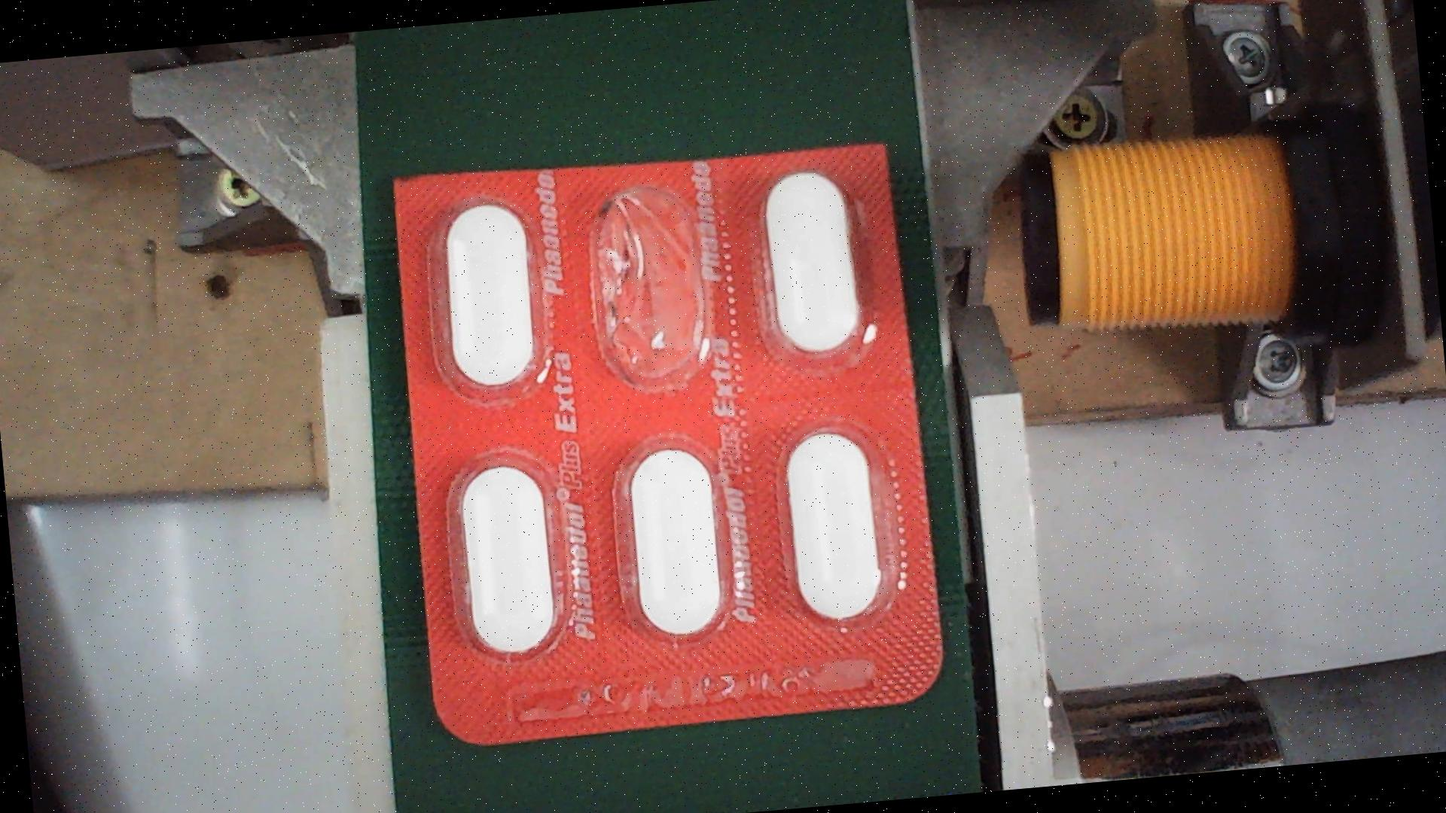Empty: (581, 177, 720, 401)
Full: (446, 455, 570, 661), (424, 192, 548, 397), (612, 439, 736, 644), (768, 420, 892, 625), (748, 166, 872, 371)
